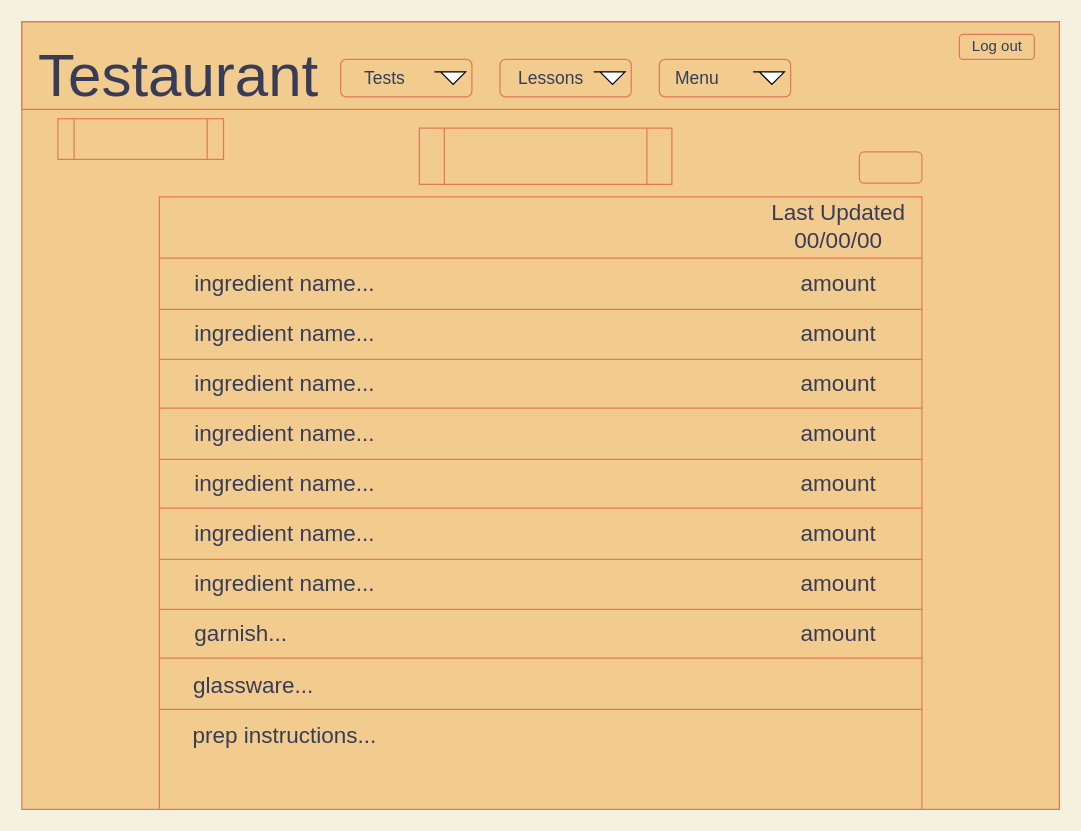
Image size: 1081x831. Some labels were removed from this diagram. The shapes that lost their labels are listed below. From the top down, each one's centre as x and y in pixels, then its label:
At point (140, 138): "Cocktails".
At point (545, 155): "The Last Word".
At point (890, 167): "Edit".
